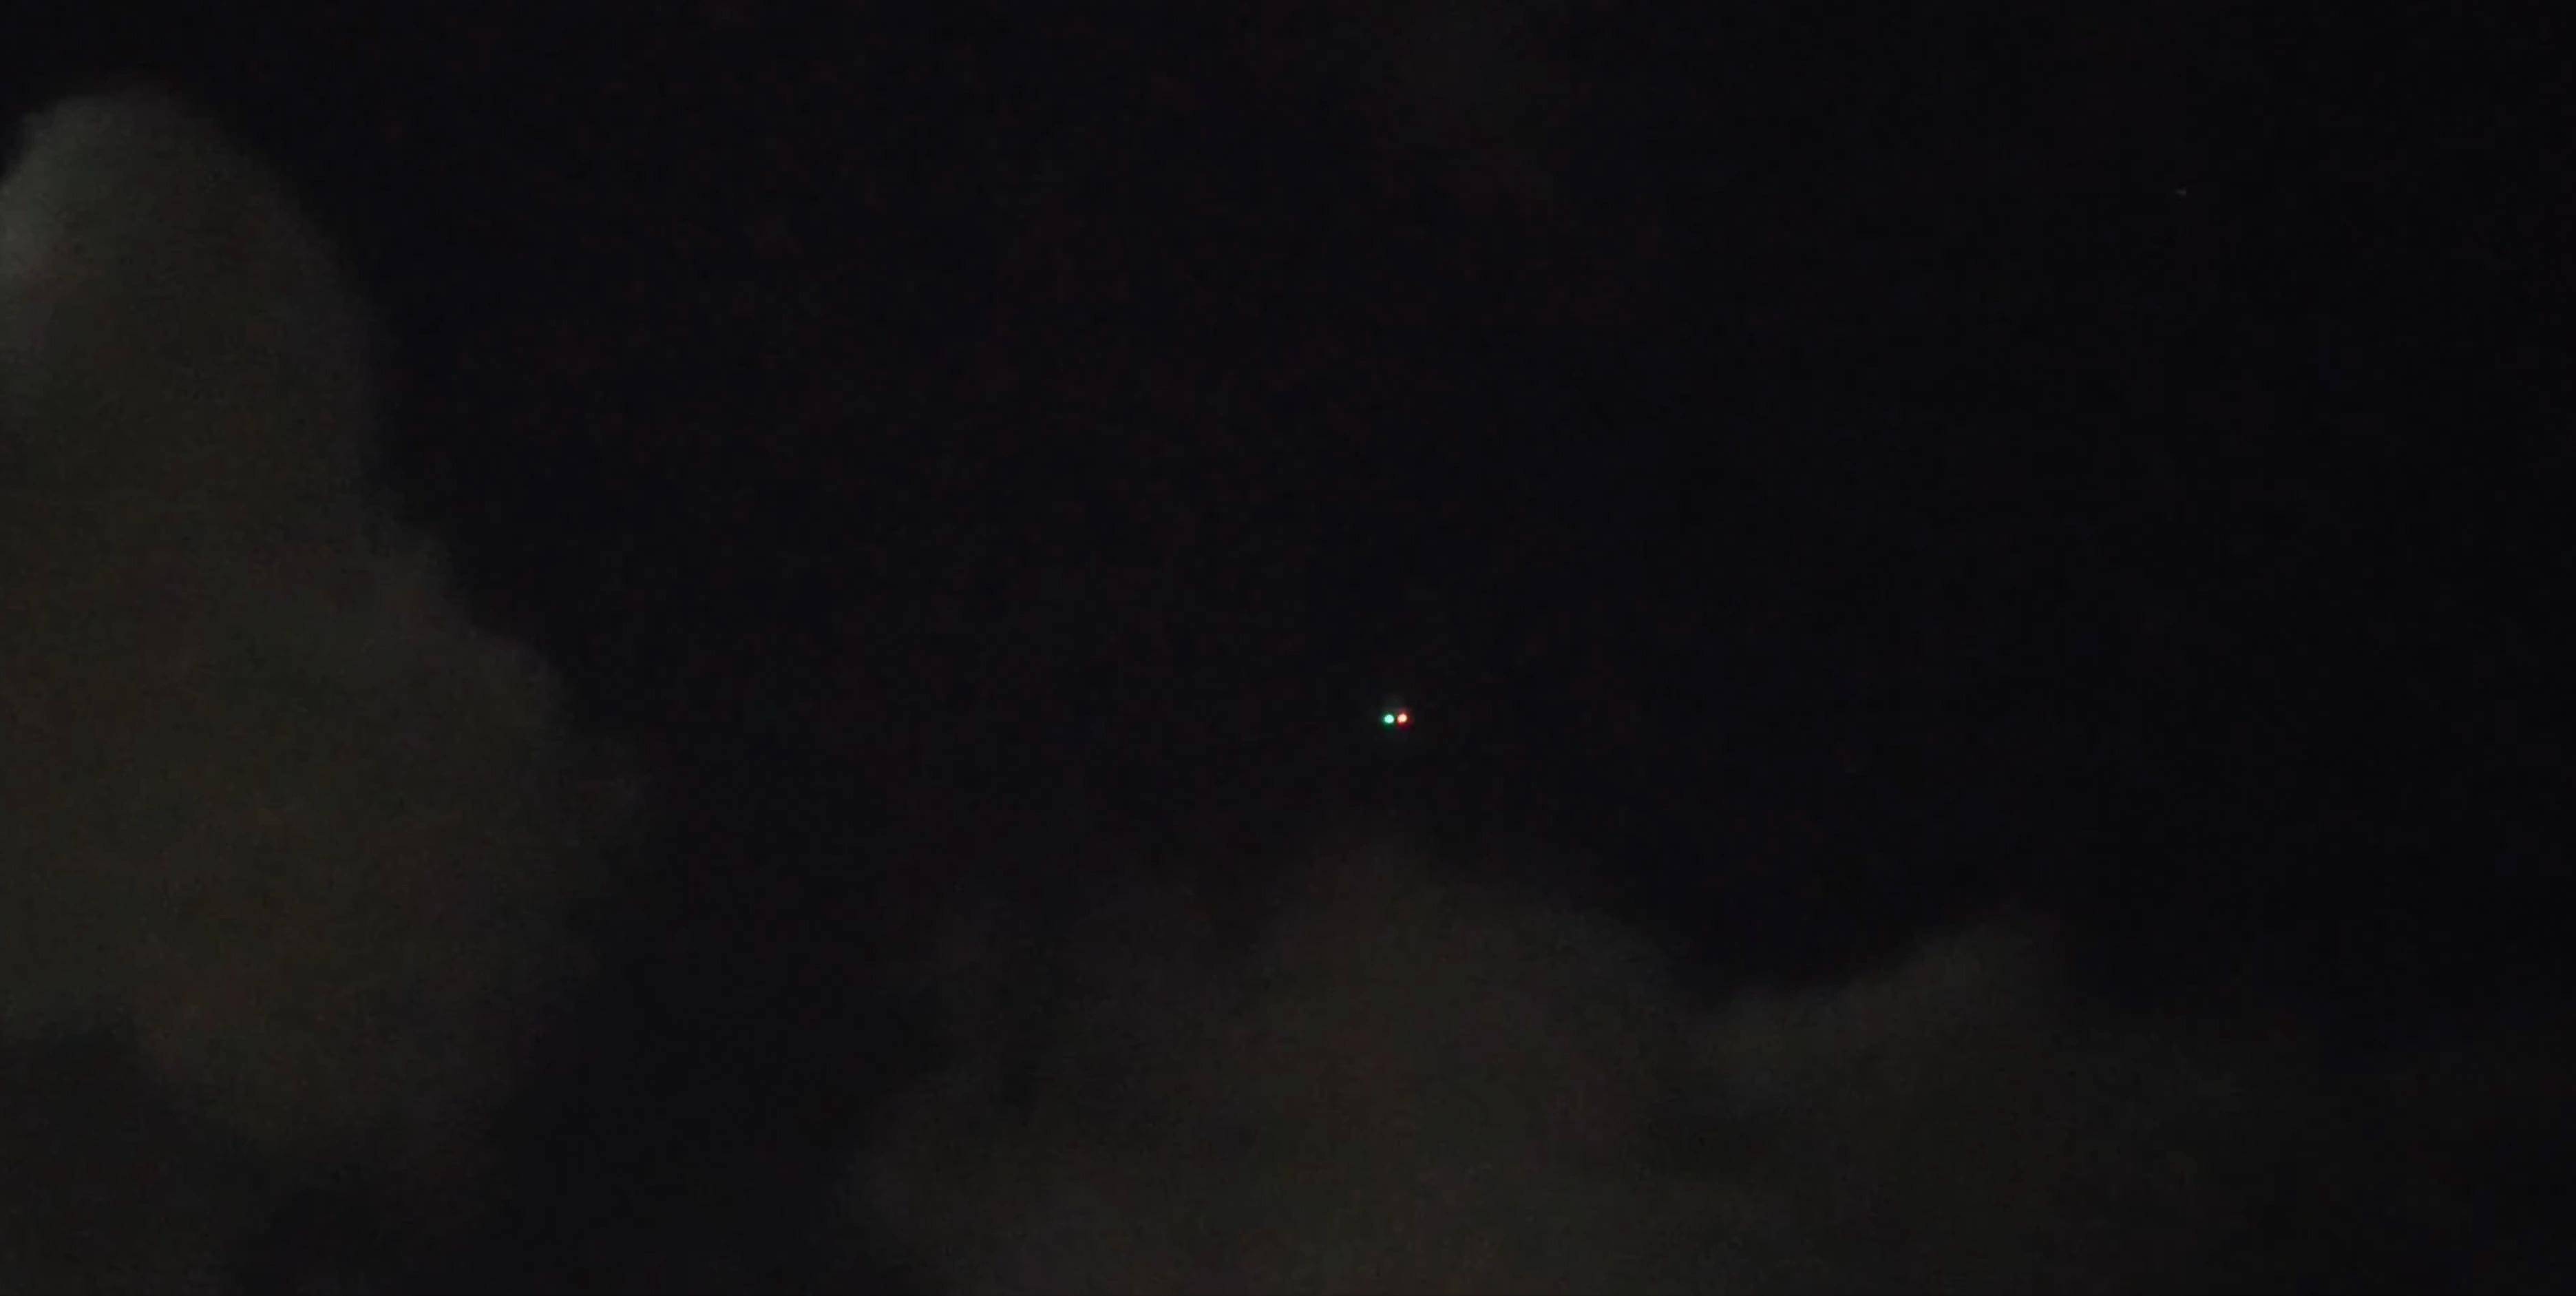Plane: (1333, 684, 1472, 750)
